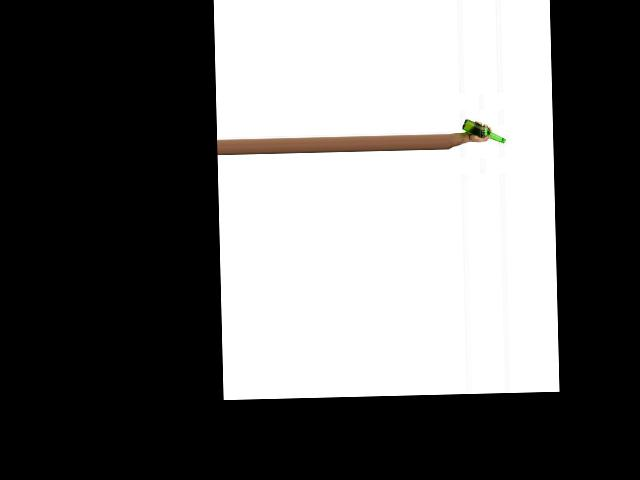beer: (462, 118, 505, 144)
